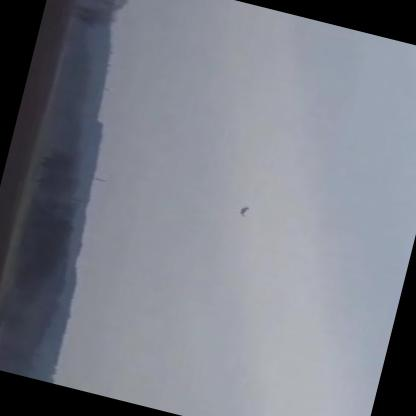plane: (236, 204, 249, 218)
